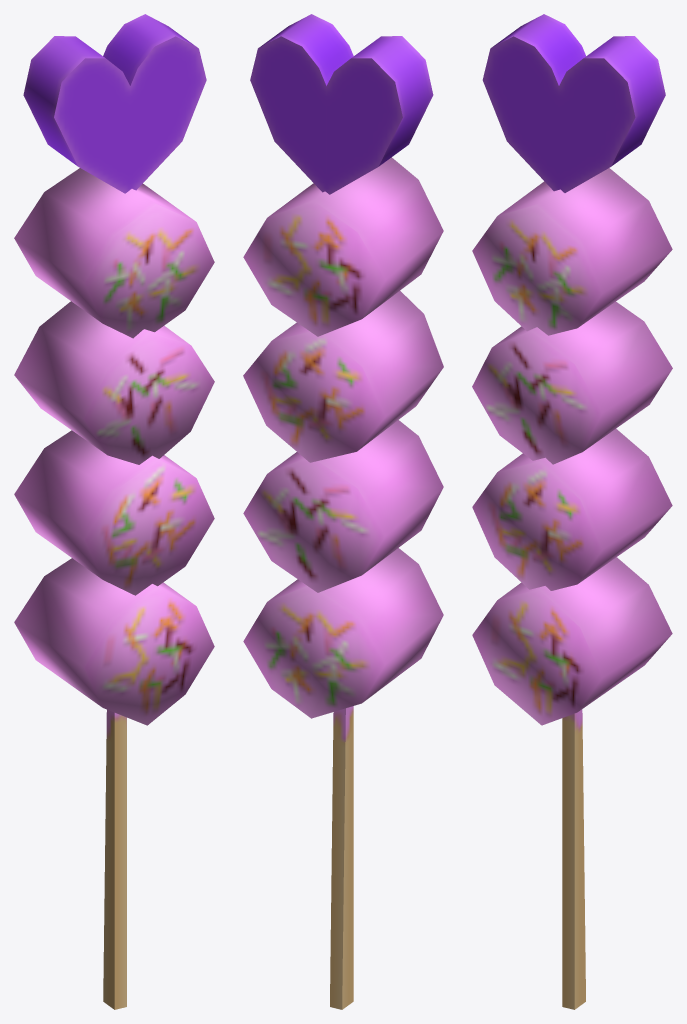
Rendered from jsf_ChocolateBanana_b05_c02.fbx.
3 renders of one model, left to right at view 1: azimuth 30°, elevation 25°; view 2: azimuth 150°, elevation 25°; view 3: azimuth 330°, elevation 25°, orthographic.
Parts seen in each view (by area): view 1: jsf_ChocolateBanana_b05_c02; view 2: jsf_ChocolateBanana_b05_c02; view 3: jsf_ChocolateBanana_b05_c02.
Boxes of the visible parts, bbox=[...] form: jsf_ChocolateBanana_b05_c02: bbox=[14, 14, 214, 1009]; jsf_ChocolateBanana_b05_c02: bbox=[243, 14, 443, 1009]; jsf_ChocolateBanana_b05_c02: bbox=[472, 14, 672, 1009].
Bounding box in the file's own units: 4.34 × 26.28 × 3.41.
